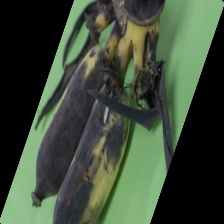banana: (22, 8, 215, 204)
